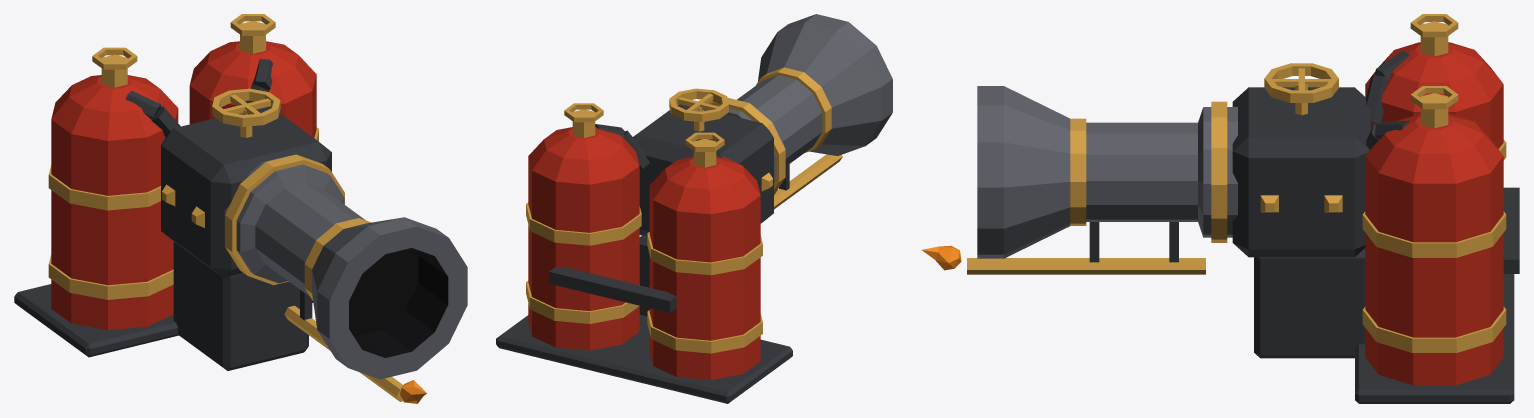
The model's file is FlameDefault.obj.
3 renders of one model, left to right at view 1: azimuth 30°, elevation 25°; view 2: azimuth 150°, elevation 25°; view 3: azimuth 270°, elevation 25°, orthographic. The views are drawn at different scales.
Visible parts, largest first — view 1: FlameDefault; view 2: FlameDefault; view 3: FlameDefault.
Boxes of the visible parts, <box> form: FlameDefault: <box>14,14,467,403</box>; FlameDefault: <box>496,14,892,403</box>; FlameDefault: <box>922,14,1519,403</box>.
Size of the model in its own units: 0.744 by 0.6972 by 1.35.
